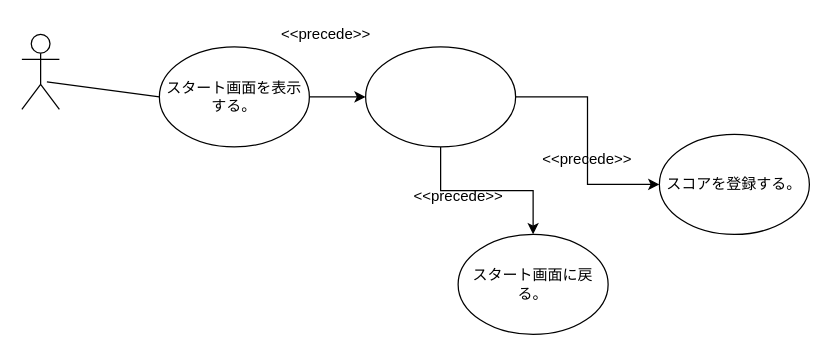
The diagram is 831 pixels wide and 356 high, and some of its shapes have lost their labels. Each missing label, with the centre of its shape:
"Actor" belongs at [40,71].
"ゲームをする。" belongs at [440,96].
